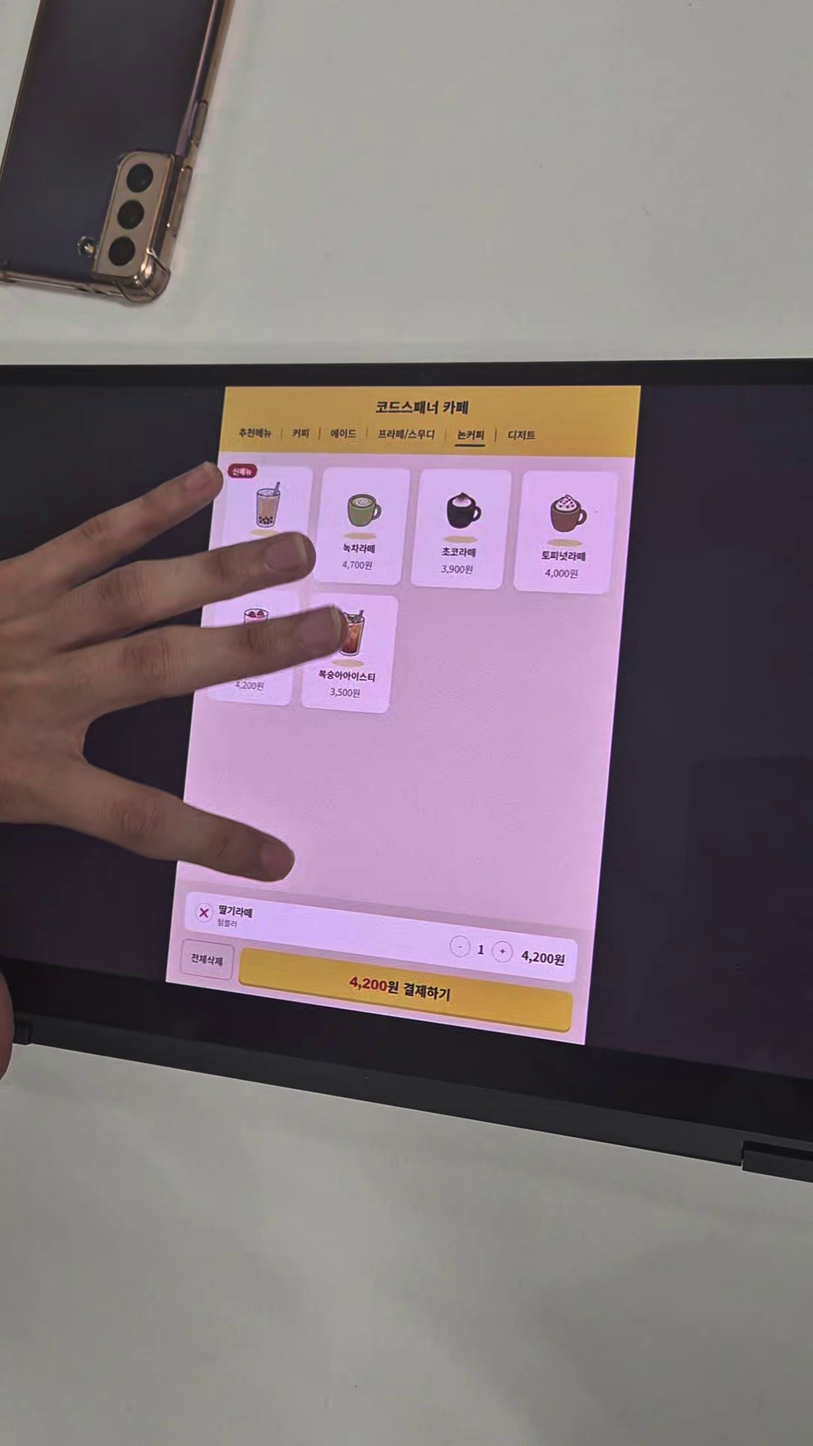action_button: (238, 946, 574, 1033), (179, 938, 234, 979)
cart_item: (185, 891, 579, 984)
category_tab: (377, 429, 435, 442), (505, 430, 537, 443), (239, 428, 271, 440), (330, 427, 357, 440), (456, 429, 485, 441), (291, 427, 311, 439)
menu_back: (513, 470, 619, 594), (410, 468, 512, 590), (312, 466, 412, 584), (214, 464, 314, 582), (298, 594, 398, 712)
menu_name: (317, 669, 377, 684), (541, 550, 587, 564), (217, 904, 254, 921), (342, 542, 377, 555), (442, 546, 476, 559)
menu_price: (520, 949, 566, 969), (327, 686, 360, 699), (545, 567, 578, 580), (231, 680, 265, 692), (341, 560, 374, 572), (440, 564, 473, 576)
